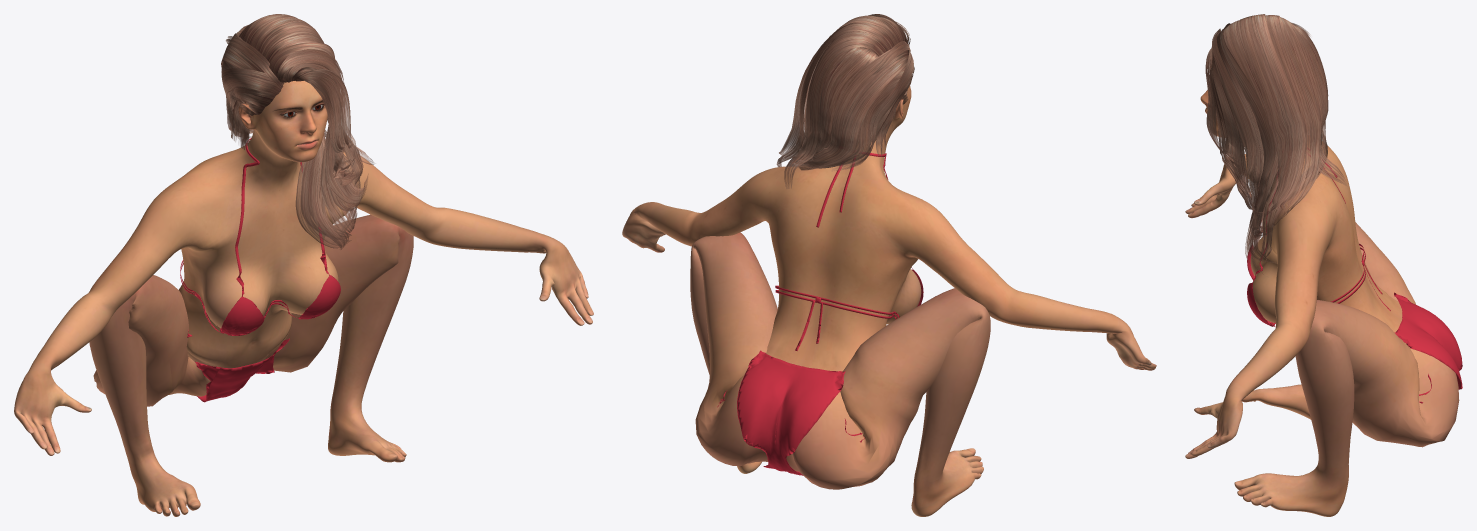
File: female_squat.glb
3 views of the same model, side by side, from view 1: azimuth 30°, elevation 25°; view 2: azimuth 150°, elevation 25°; view 3: azimuth 270°, elevation 25° (orthographic). The views are drawn at different scales.
Visible parts, largest first — view 1: Body, Body.elvs_adrienne_hair, Bikini; view 2: Body, Body.elvs_adrienne_hair, Bikini; view 3: Body, Body.elvs_adrienne_hair, Bikini.
Part boxes in pixels (left/top/right/bottom): Body: left=14, top=80, right=593, bottom=516; Body.elvs_adrienne_hair: left=221, top=14, right=373, bottom=249; Bikini: left=180, top=138, right=340, bottom=402; Body: left=622, top=86, right=1156, bottom=516; Body.elvs_adrienne_hair: left=776, top=14, right=914, bottom=188; Bikini: left=717, top=152, right=923, bottom=475; Body: left=1185, top=90, right=1459, bottom=516; Body.elvs_adrienne_hair: left=1205, top=14, right=1346, bottom=274; Bikini: left=1247, top=149, right=1462, bottom=403.
Bounding box in the file's own units: 1.21 × 0.9938 × 0.5514.
8 materials, 7 textured.
